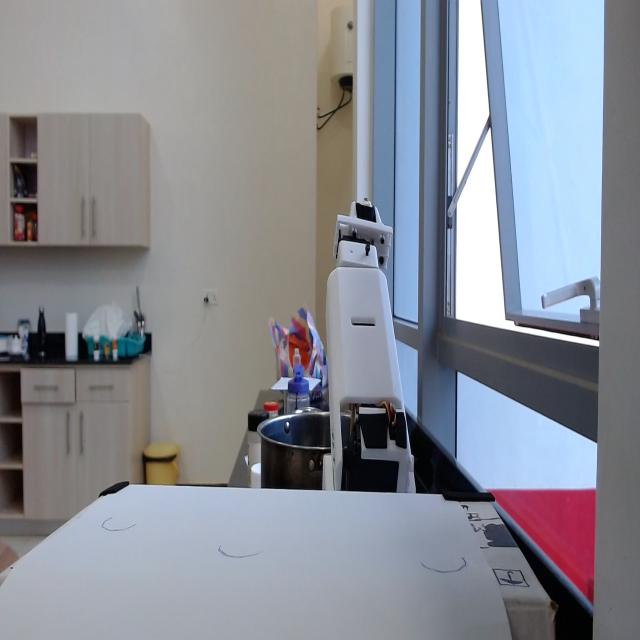cooking_pot: (255, 394, 340, 488)
